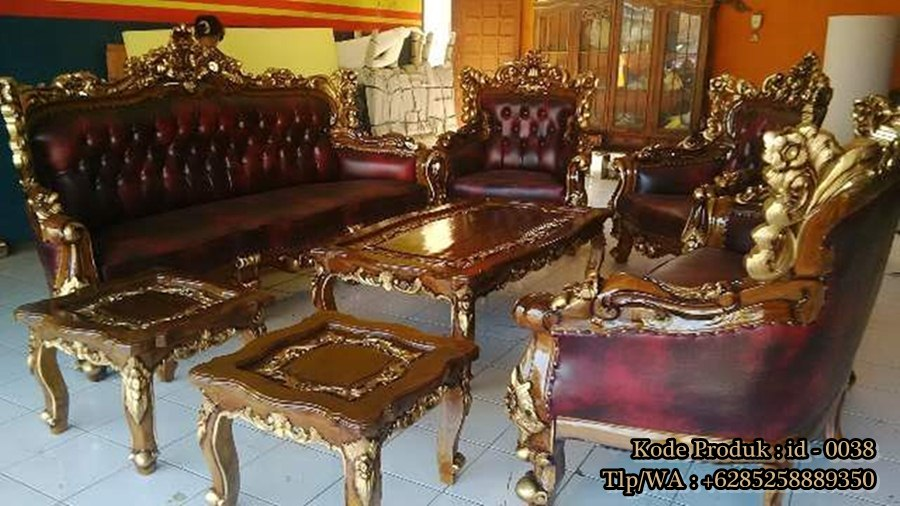Carving Chair: (528, 118, 877, 506)
Carving Table: (205, 303, 474, 506), (25, 257, 235, 477), (314, 190, 605, 347)
